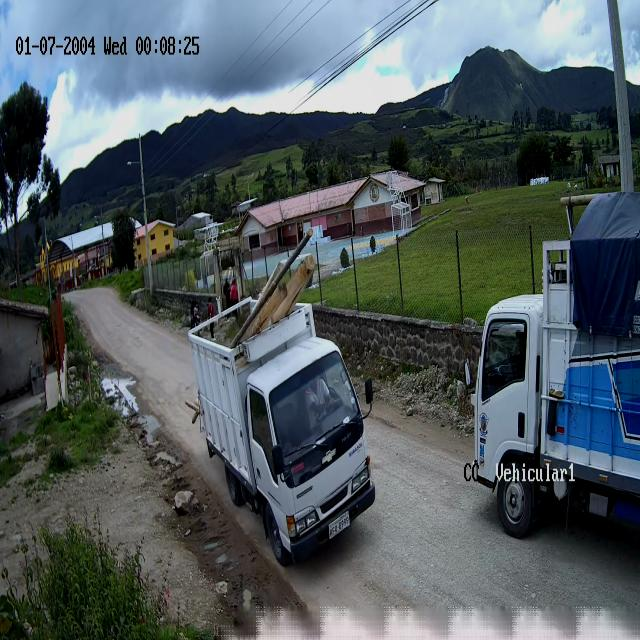TRUCK: (463, 240, 640, 540), (189, 301, 376, 568)
